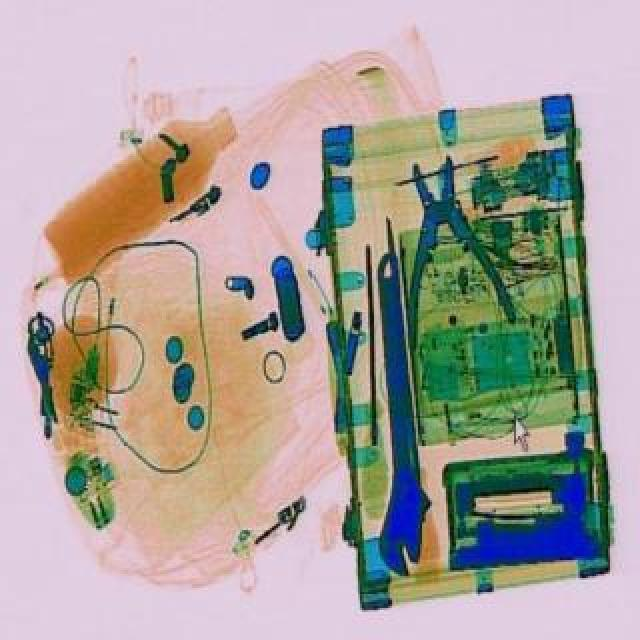scissors: (352, 248, 436, 576)
wrench: (372, 148, 516, 346)
